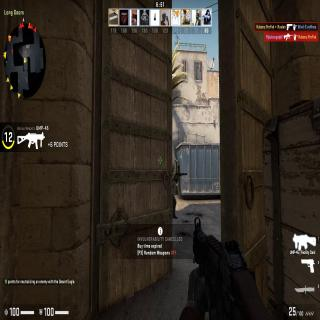CT-Body: (172, 166, 178, 216)
CT-Head: (172, 166, 175, 172)
